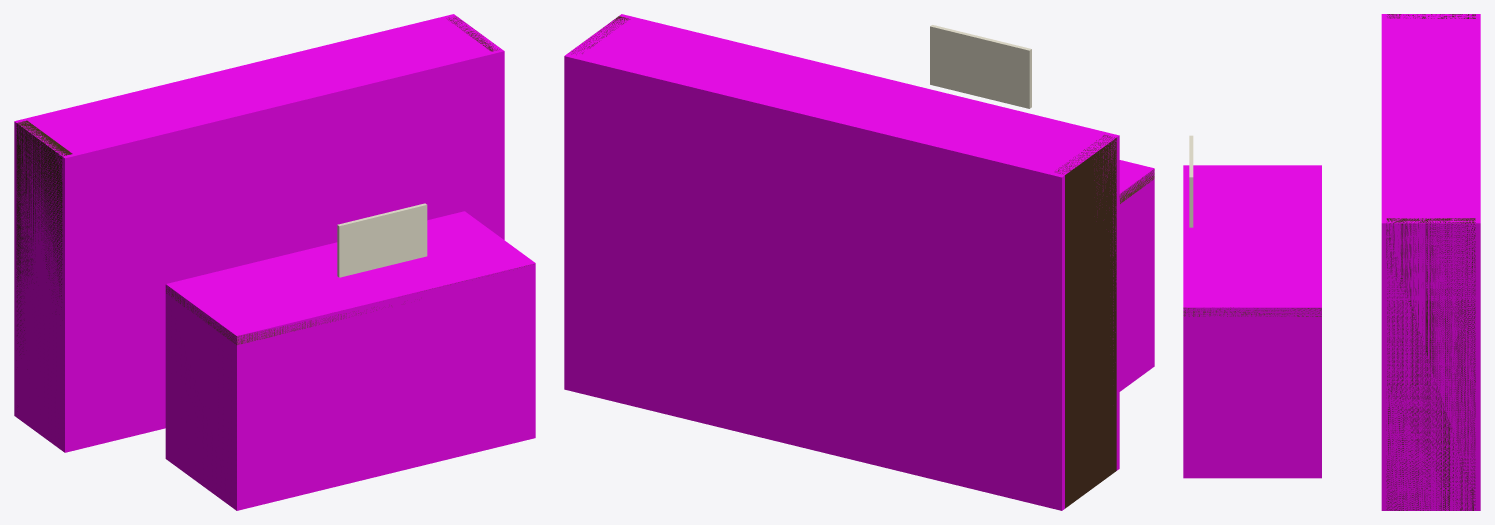
The model's file is PRP_Chappal_Stand_A.glb.
3 views of the same model, side by side, from view 1: azimuth 30°, elevation 25°; view 2: azimuth 150°, elevation 25°; view 3: azimuth 270°, elevation 25° (orthographic). The views are drawn at different scales.
Parts seen in each view (by area): view 1: COL_Racks, COL_Counter, PRP_Chappal_Stand_A_Mesh; view 2: COL_Racks, PRP_Chappal_Stand_A_Mesh, COL_Counter; view 3: COL_Racks, COL_Counter, PRP_Chappal_Stand_A_Mesh.
Boxes of the visible parts, x1,y1,x2,y2 form: COL_Racks: (14, 14, 504, 452); COL_Counter: (165, 211, 535, 510); PRP_Chappal_Stand_A_Mesh: (16, 16, 533, 354); COL_Racks: (564, 14, 1119, 510); PRP_Chappal_Stand_A_Mesh: (571, 16, 1154, 508); COL_Counter: (1119, 160, 1154, 391); COL_Racks: (1381, 14, 1480, 510); COL_Counter: (1183, 165, 1321, 478); PRP_Chappal_Stand_A_Mesh: (1183, 14, 1475, 510).
Bounding box in the file's own units: 2.5 × 1.61 × 1.5.
